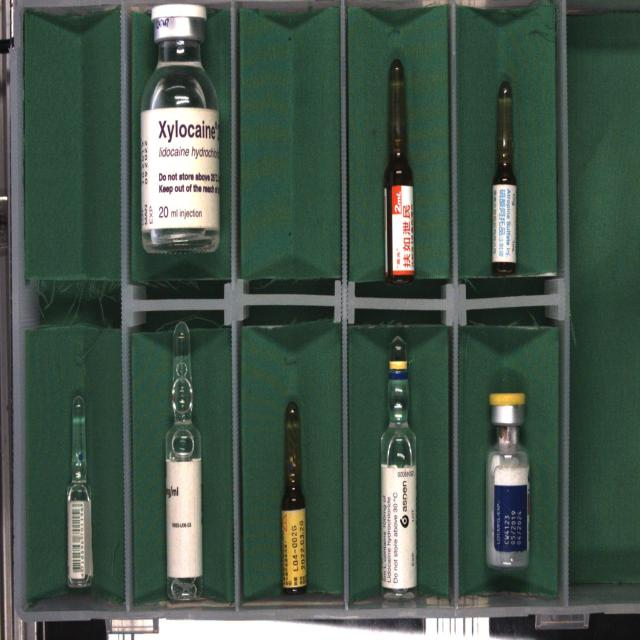Vials: (141, 4, 219, 253), (485, 393, 529, 570)
